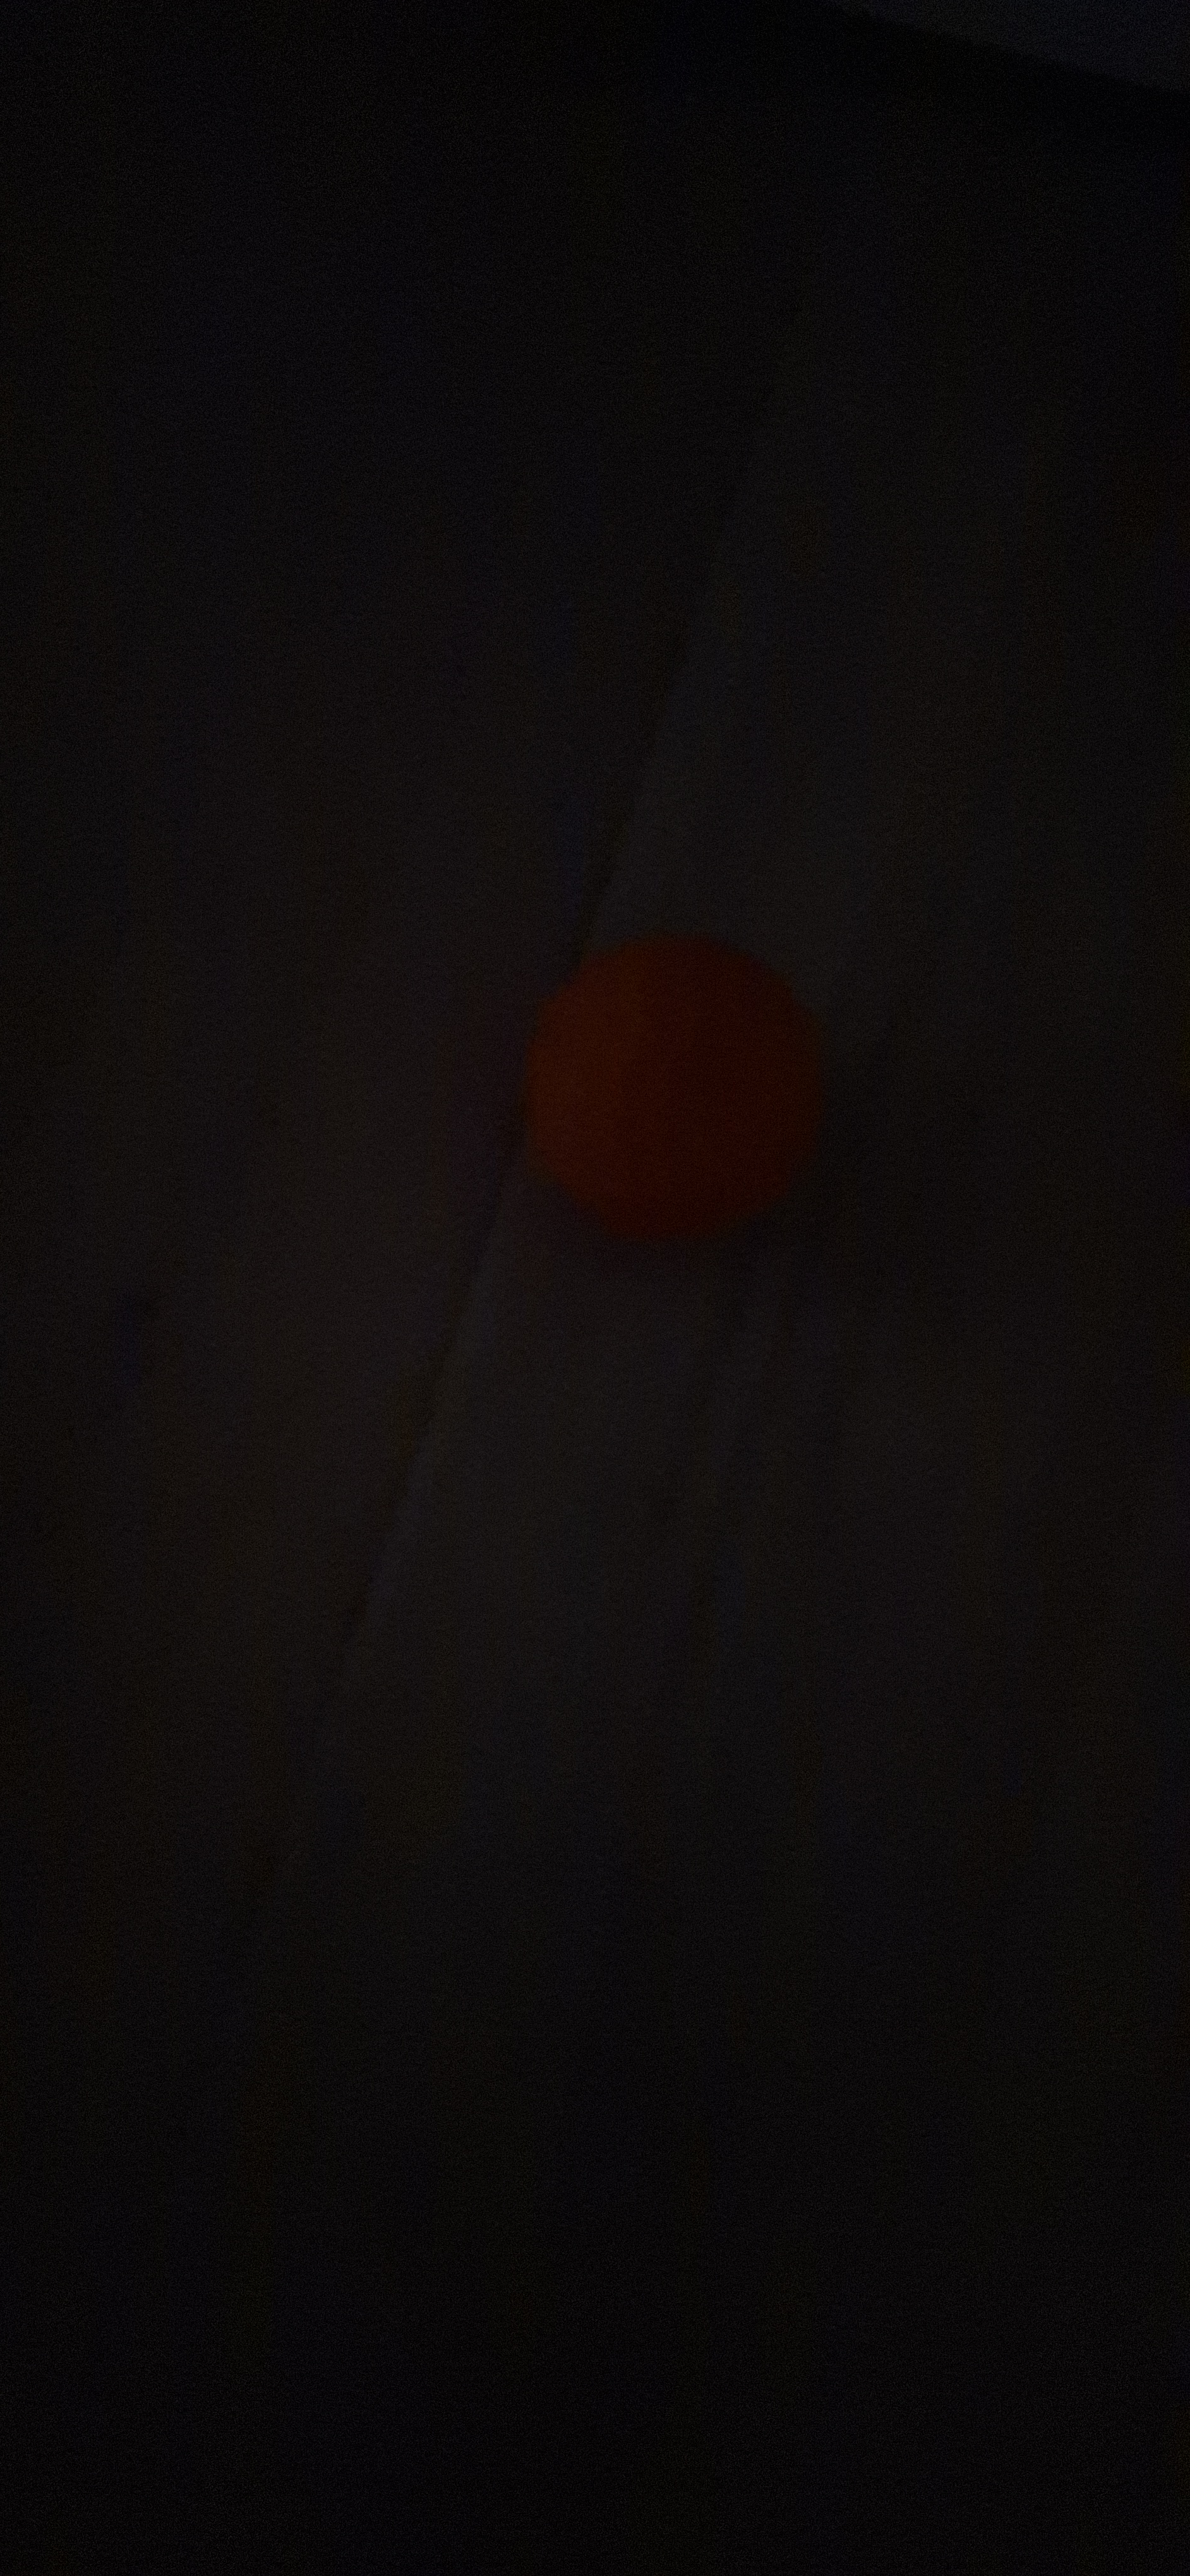ball: (431, 797, 585, 1457)
